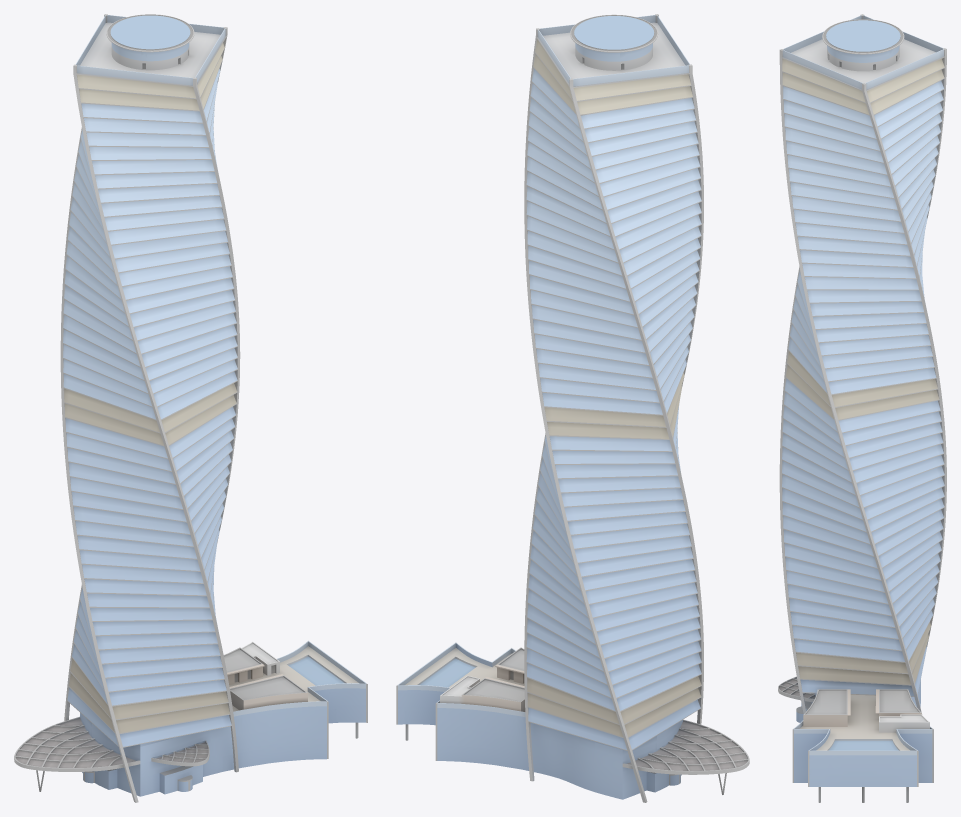
File: KSA-38.glb
3 renders of one model, left to right at view 1: azimuth 30°, elevation 25°; view 2: azimuth 150°, elevation 25°; view 3: azimuth 270°, elevation 25°, orthographic. The views are drawn at different scales.
Visible parts, largest first — view 1: majdoul; view 2: majdoul; view 3: majdoul.
Boxes of the visible parts, x1,y1,x2,y2 form: majdoul: (14,14,367,802); majdoul: (396,14,749,802); majdoul: (778,14,946,802).
Size of the model in its own units: 111 by 242 by 54.28.
1 material, 1 textured.
